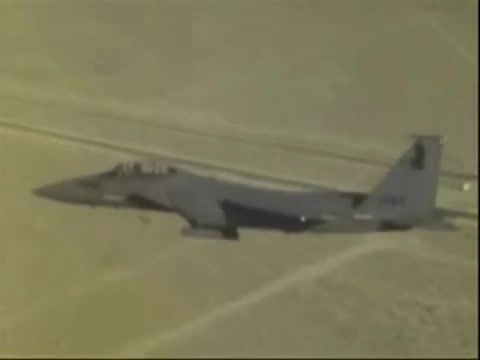aeroplane: (34, 134, 463, 240)
